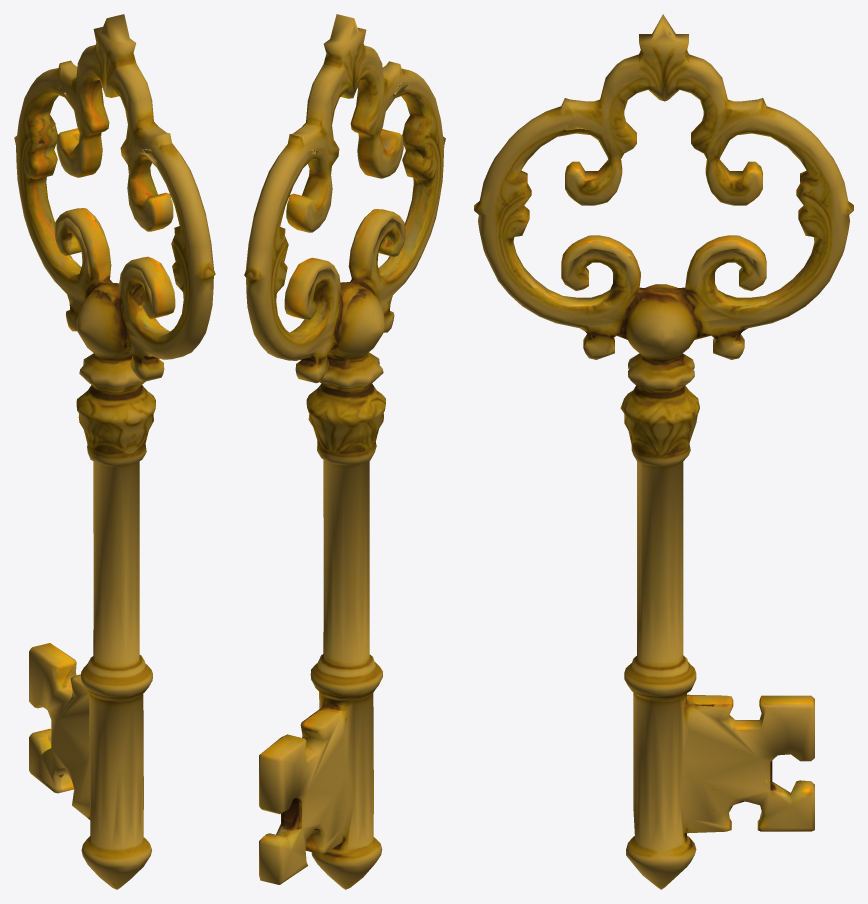
File: key.glb
3 renders of one model, left to right at view 1: azimuth 30°, elevation 25°; view 2: azimuth 150°, elevation 25°; view 3: azimuth 270°, elevation 25°, orthographic.
Parts seen in each view (by area): view 1: base_model_path; view 2: base_model_path; view 3: base_model_path.
Boxes of the visible parts, x1=… form: base_model_path: x1=14, y1=14, x2=215, y2=889; base_model_path: x1=244, y1=14, x2=445, y2=889; base_model_path: x1=474, y1=14, x2=853, y2=889.
Size of the model in its own units: 0.0815 by 0.8999 by 0.3555.
1 material, 1 textured.
